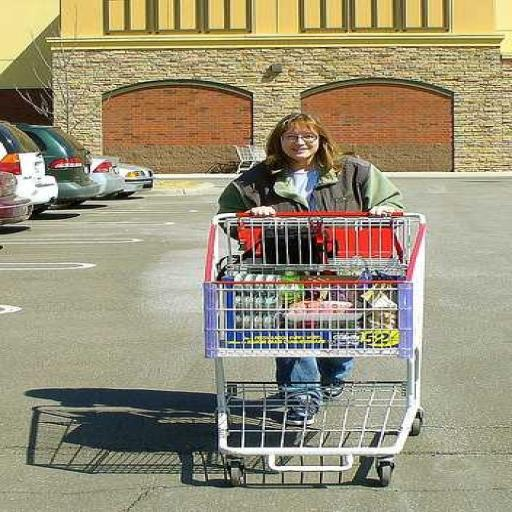shopping_cart: (202, 209, 428, 485)
